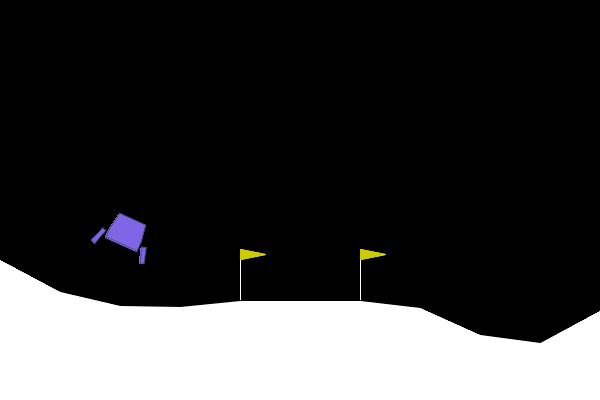lander: (89, 205, 161, 267)
